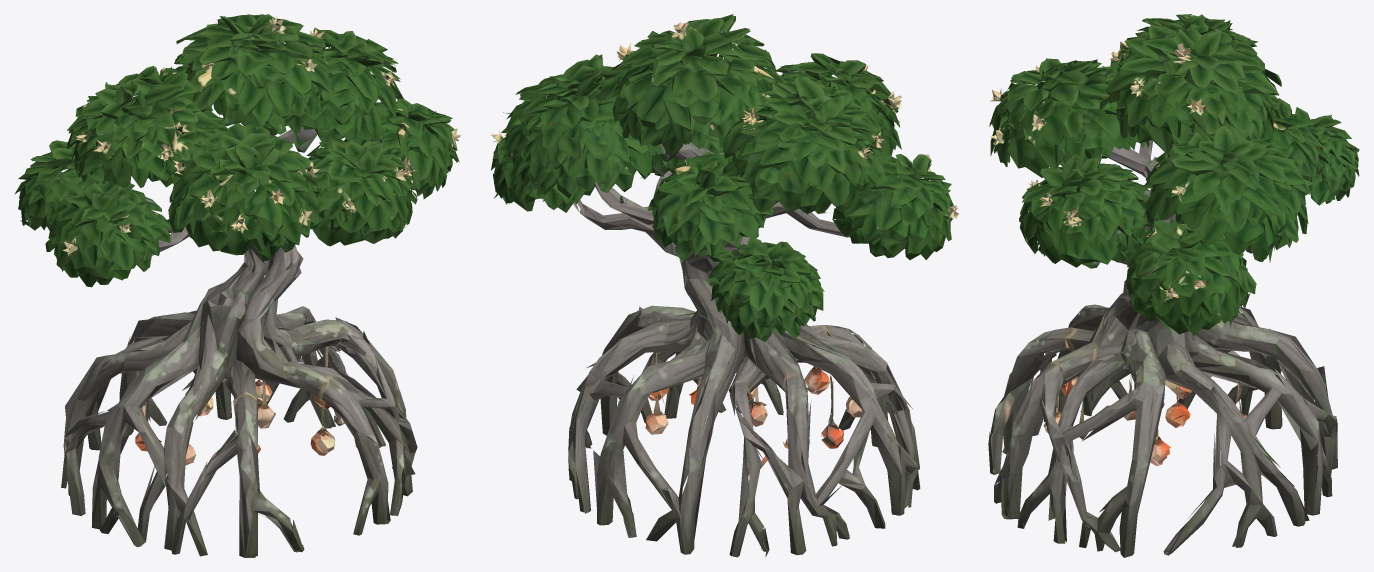
File: east_mangrove.glb
The picture shows the model from 3 angles, left to right: view 1: azimuth 30°, elevation 25°; view 2: azimuth 150°, elevation 25°; view 3: azimuth 270°, elevation 25°; orthographic projection. The views are drawn at different scales.
Visible parts, largest first — view 1: Mesh_0; view 2: Mesh_0; view 3: Mesh_0.
Part boxes in pixels (left/top/right/bottom): Mesh_0: left=14, top=14, right=461, bottom=557; Mesh_0: left=491, top=14, right=958, bottom=557; Mesh_0: left=988, top=14, right=1359, bottom=557.
Bounding box in the file's own units: 14.7 × 15 × 10.91.
1 material, 1 textured.
